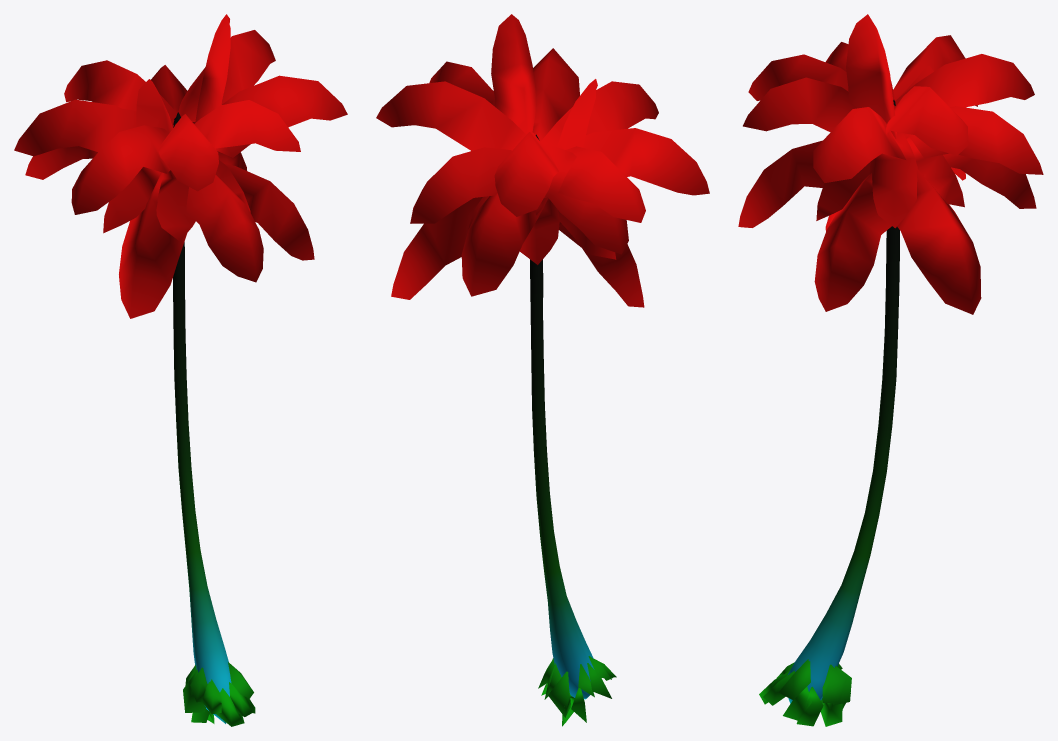
The model's file is Coconut6.fbx.
3 views of the same model, side by side, from view 1: azimuth 30°, elevation 25°; view 2: azimuth 150°, elevation 25°; view 3: azimuth 270°, elevation 25° (orthographic). The views are drawn at different scales.
Parts seen in each view (by area): view 1: Coconut6_LOD0; view 2: Coconut6_LOD0; view 3: Coconut6_LOD0.
Boxes of the visible parts, x1=… form: Coconut6_LOD0: x1=14, y1=14, x2=347, y2=726; Coconut6_LOD0: x1=376, y1=14, x2=709, y2=726; Coconut6_LOD0: x1=738, y1=14, x2=1043, y2=726.
Size of what is drawn, in the model's own units: 734 by 1775 by 673.
